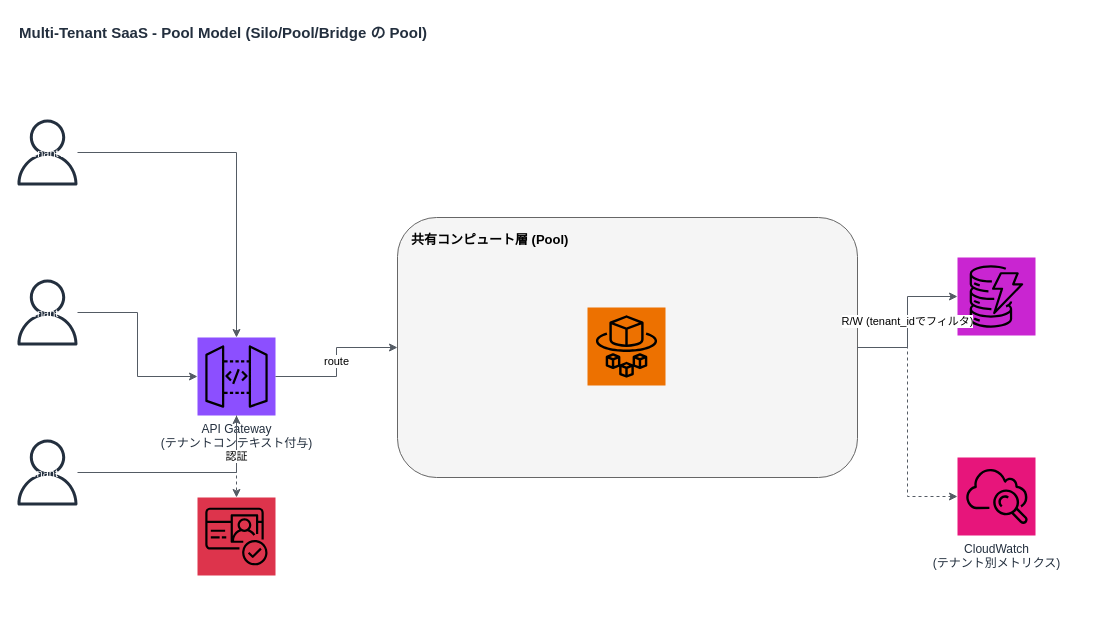
This 1102x628 diagram has some shape labels left out. Here are the shapes that lost their labels. From the top down, the centre of each, then its label:
the point at 996,296: DynamoDB (パーティションキー = tenant_id)
the point at 626,346: ECS Fargate (全テナント共用)
the point at 236,536: Cognito (テナント別ユーザープール/属性)
